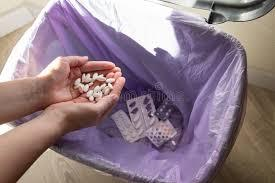pill_Strip: (111, 95, 176, 147), (126, 94, 157, 137), (74, 72, 115, 101), (162, 106, 183, 150), (111, 110, 139, 142), (126, 96, 146, 137), (146, 120, 176, 146), (136, 94, 157, 128), (126, 96, 145, 129), (141, 94, 157, 128), (155, 98, 175, 121), (162, 128, 182, 150), (92, 83, 110, 100), (131, 112, 143, 133), (99, 126, 120, 136), (147, 115, 158, 127), (81, 73, 92, 82), (132, 113, 141, 121), (74, 78, 81, 88), (137, 128, 144, 137), (92, 91, 102, 97), (95, 74, 105, 80), (103, 87, 110, 95), (78, 83, 84, 92), (86, 90, 93, 97), (145, 103, 151, 111), (85, 73, 90, 82), (96, 76, 105, 81), (102, 86, 109, 92), (93, 86, 100, 92), (82, 84, 88, 91), (105, 78, 114, 82), (131, 107, 137, 113), (100, 83, 106, 89), (74, 78, 80, 84), (143, 97, 149, 103), (81, 73, 85, 82), (171, 140, 177, 146), (74, 83, 81, 88), (92, 72, 97, 79), (148, 112, 155, 117), (86, 78, 94, 82), (95, 96, 101, 101), (129, 102, 135, 107), (107, 83, 112, 89), (86, 73, 90, 80), (88, 81, 93, 86), (107, 83, 112, 88), (74, 84, 79, 88), (89, 96, 93, 101), (98, 74, 103, 76)
